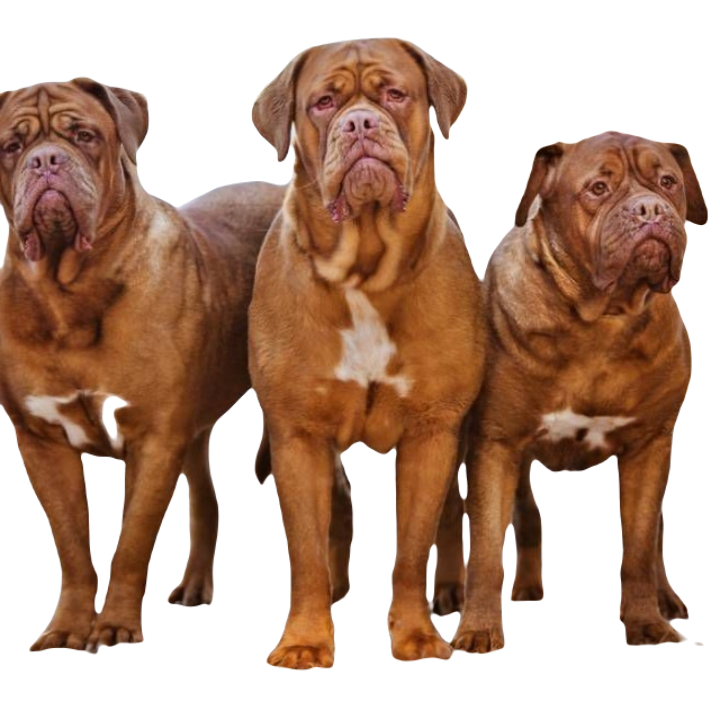Dog: (0, 73, 263, 653), (454, 129, 709, 647)
